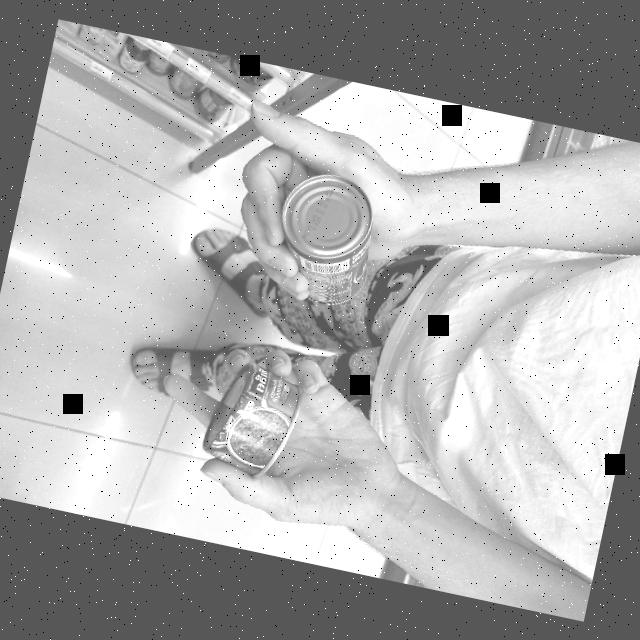can: (257, 159, 399, 321), (184, 344, 316, 494)
